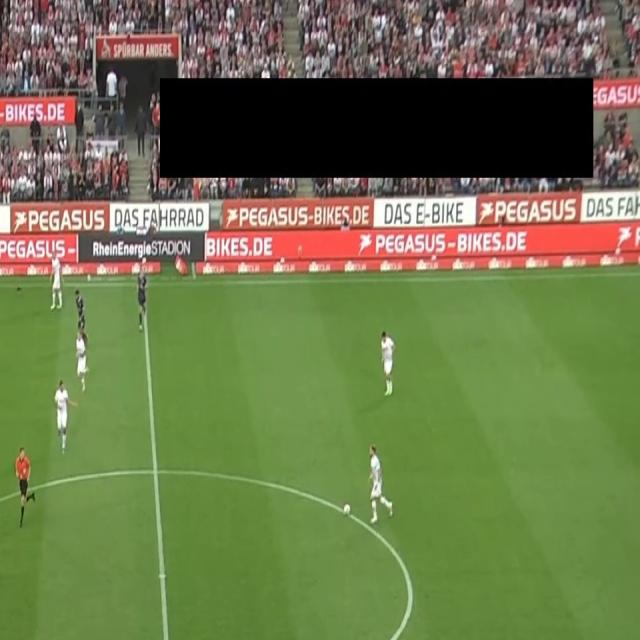ball: (343, 501, 351, 516)
